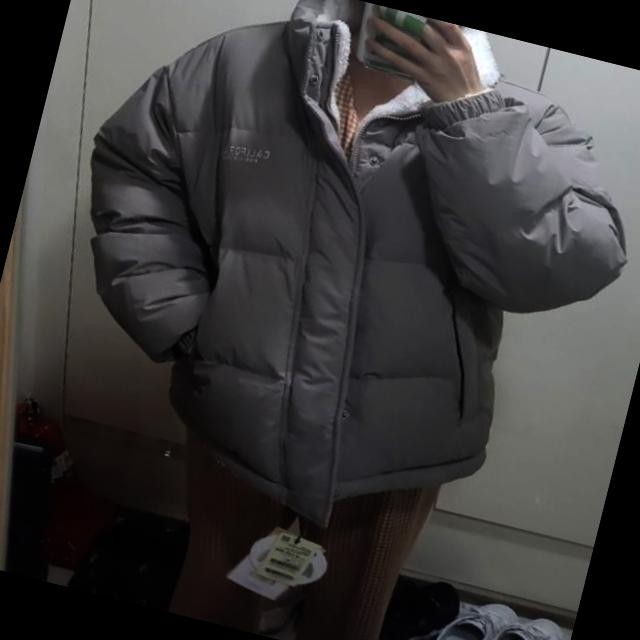padding: (16, 0, 640, 577)
trainingpants: (144, 410, 445, 640)
